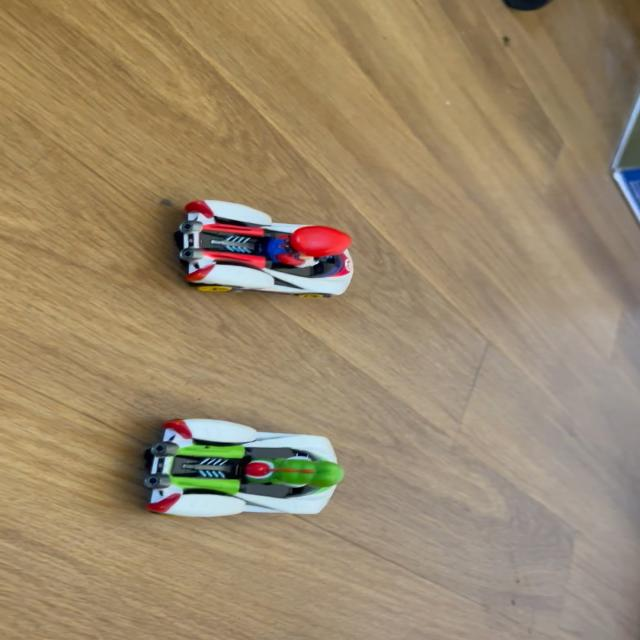mario: (152, 197, 369, 308)
yoshi: (124, 405, 358, 519)
